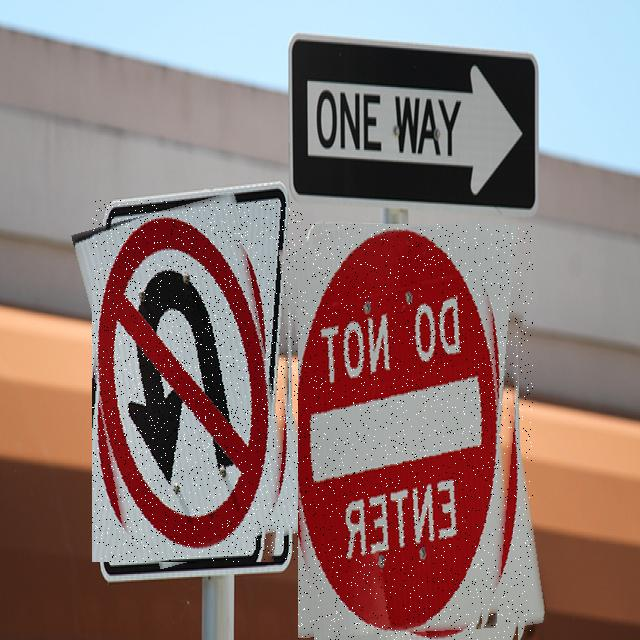no entry: (298, 224, 533, 640)
no u turn: (92, 200, 303, 562)
